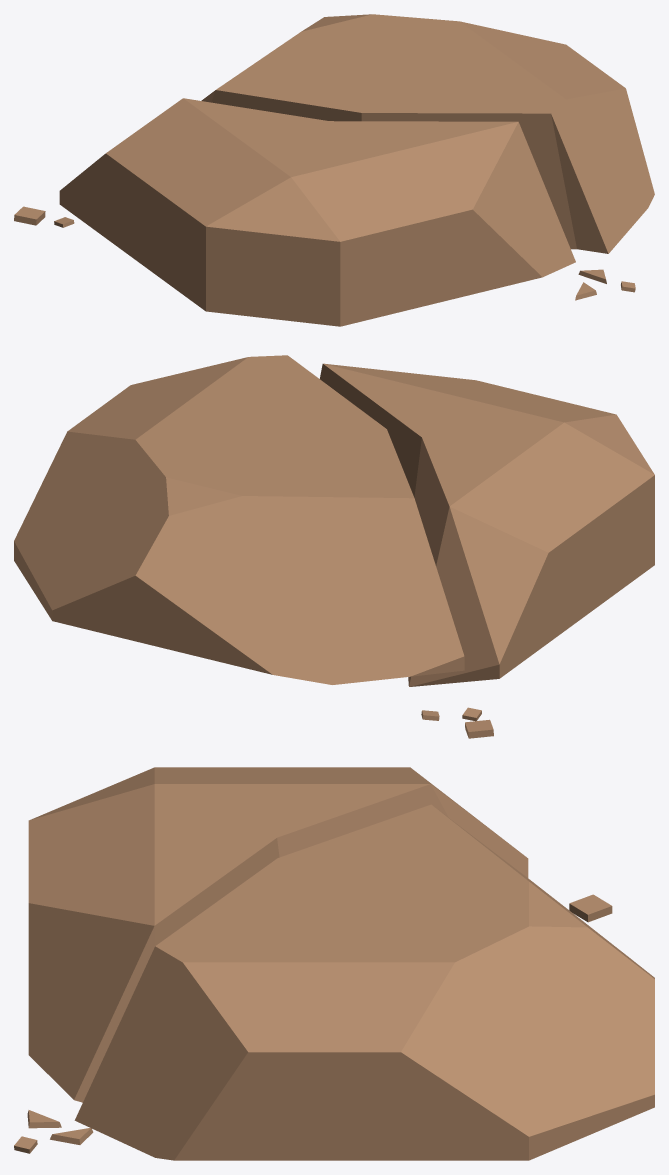
Rendered from Rock_Flat_crk_m_02.fbx.
3 renders of one model, top to bottom at view 1: azimuth 30°, elevation 25°; view 2: azimuth 150°, elevation 25°; view 3: azimuth 270°, elevation 25°, orthographic. The views are drawn at different scales.
Parts seen in each view (by area): view 1: Rock_Flat_crk_m_02; view 2: Rock_Flat_crk_m_02; view 3: Rock_Flat_crk_m_02.
Part boxes in pixels (box(x1,y1,x2,y2)): Rock_Flat_crk_m_02: box(14, 14, 654, 326); Rock_Flat_crk_m_02: box(14, 355, 654, 738); Rock_Flat_crk_m_02: box(14, 767, 654, 1160).
Bounding box in the file's own units: 135 × 39.57 × 123.
